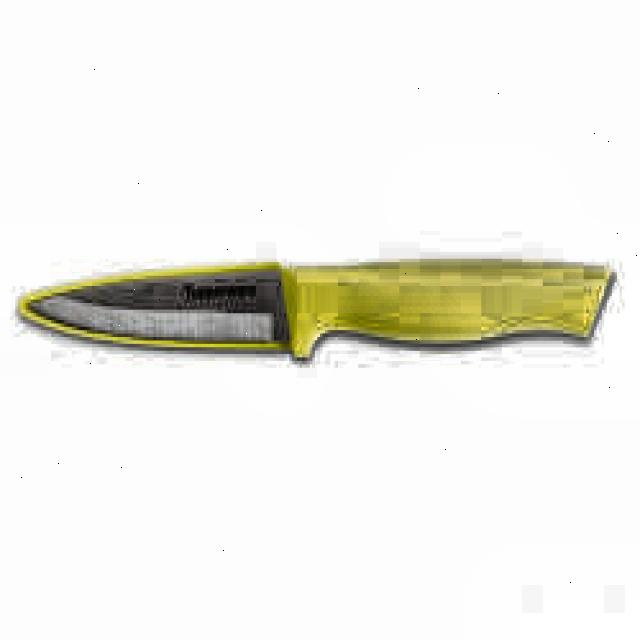knife: (24, 262, 616, 363)
